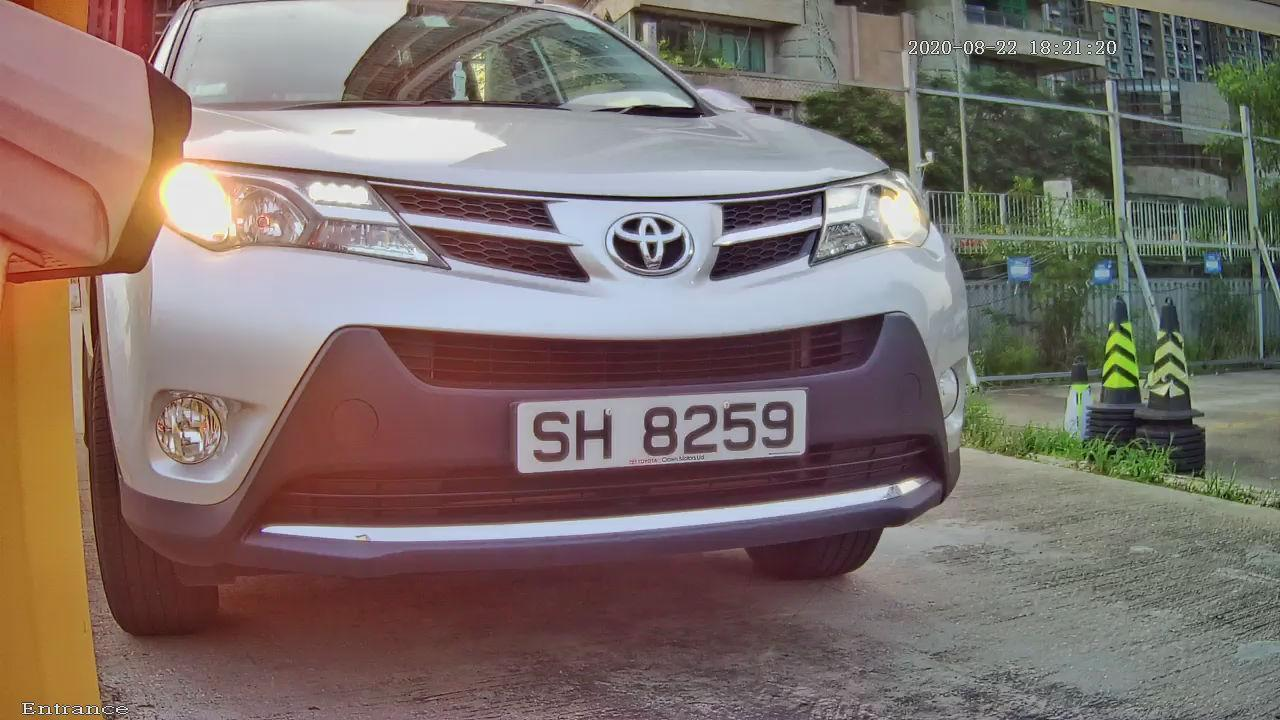License Plate: (475, 326, 863, 518)
